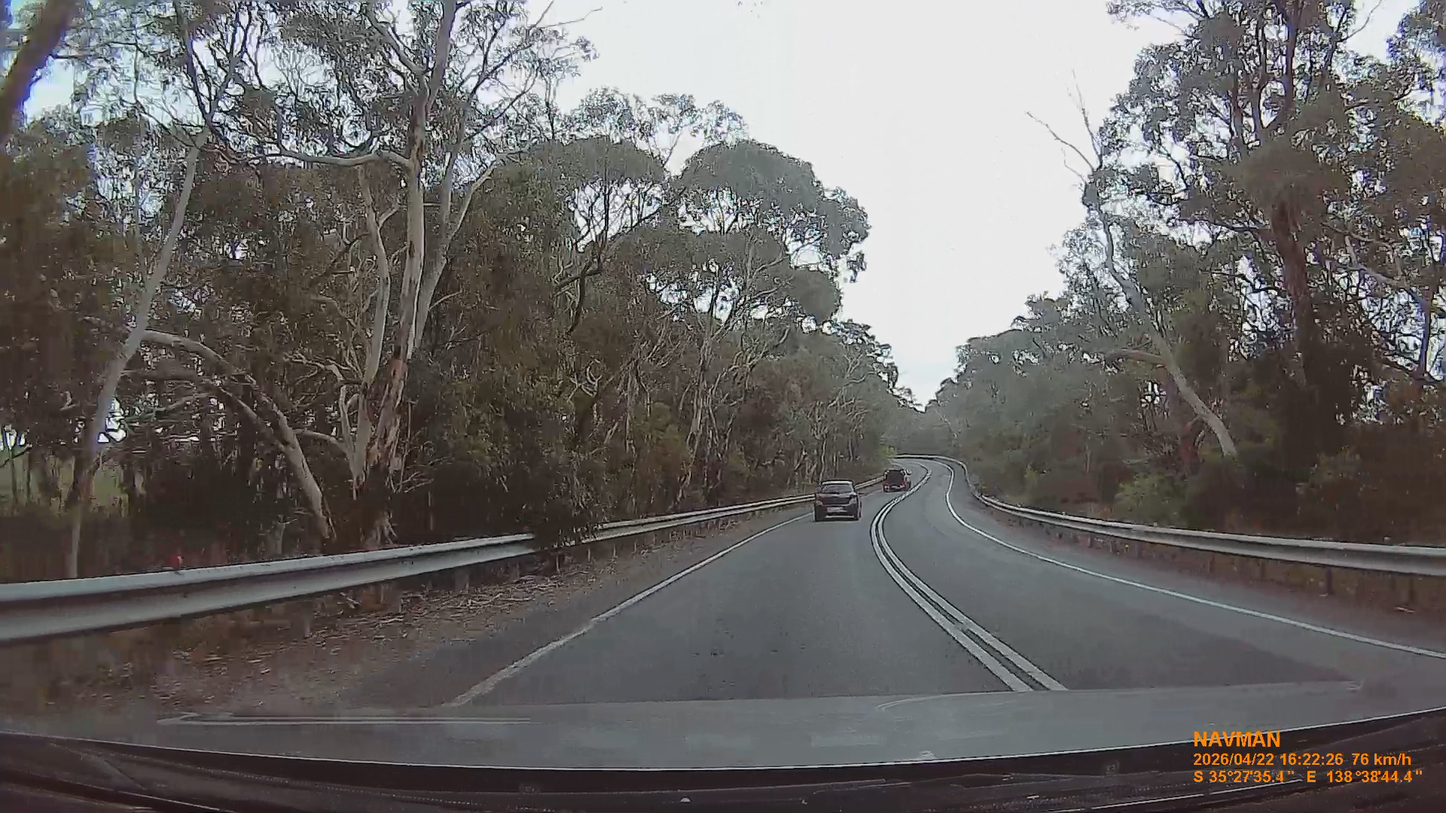road barriers: (5, 496, 795, 643), (984, 500, 1446, 583), (578, 493, 800, 553)
